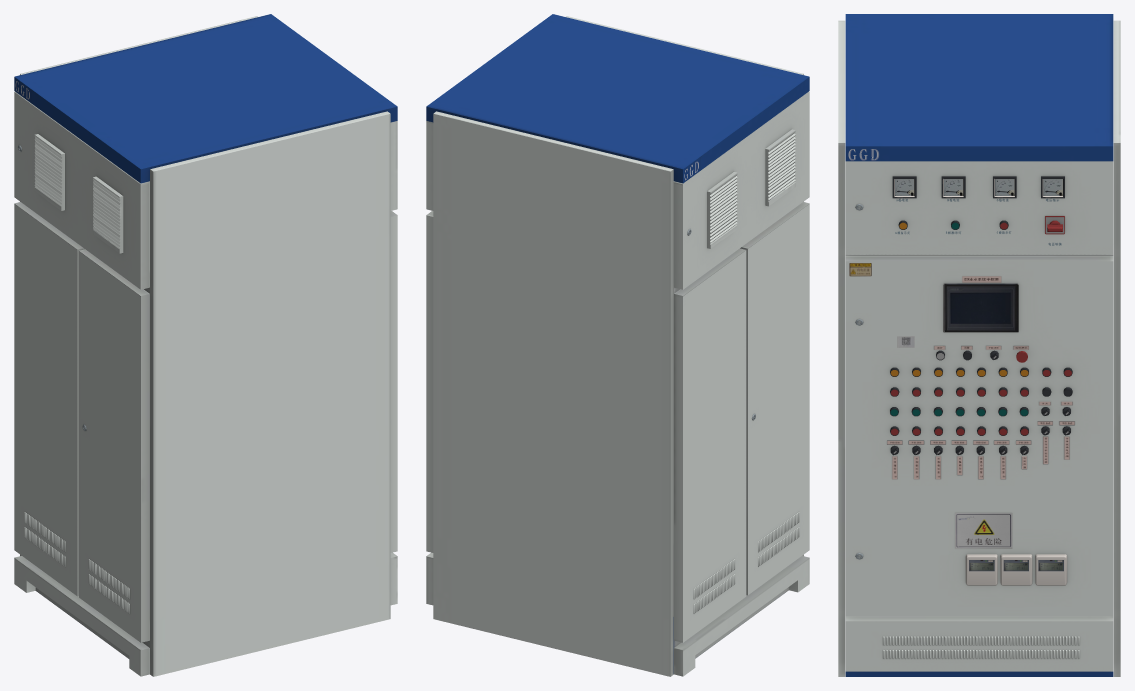
The model's file is LX_gongyibingshui.glb.
3 renders of one model, left to right at view 1: azimuth 30°, elevation 25°; view 2: azimuth 150°, elevation 25°; view 3: azimuth 270°, elevation 25°, orthographic. The views are drawn at different scales.
Size of the model in its own units: 1.13 by 2.02 by 0.9633.
Materials: 1 (1 with a texture image).
